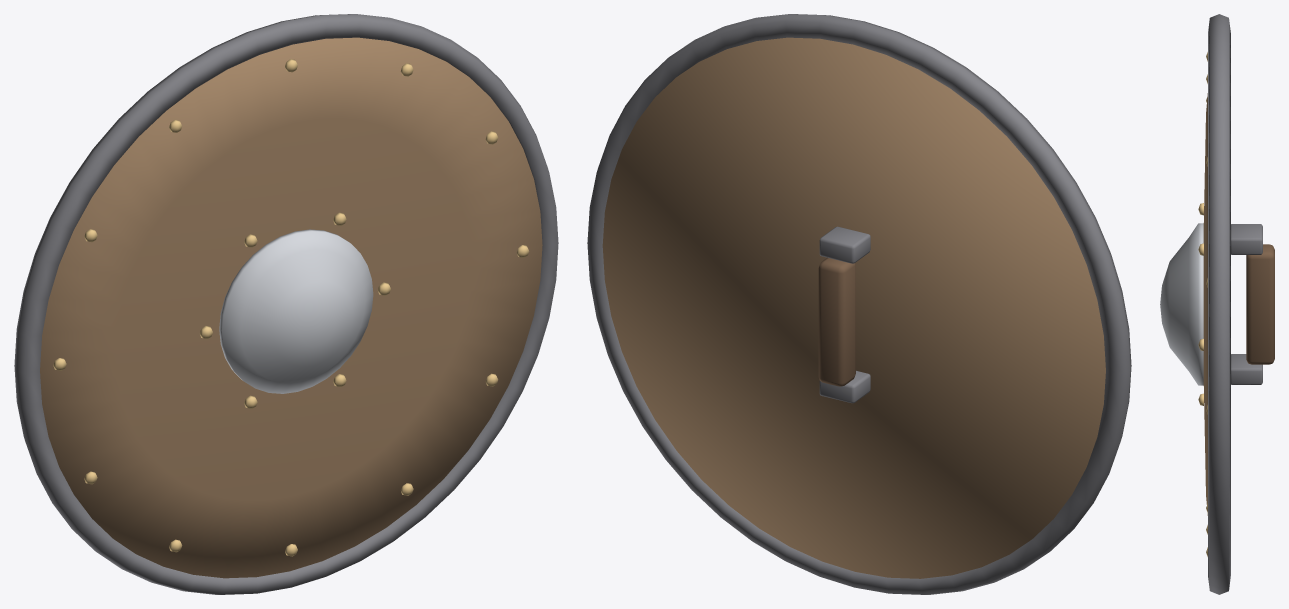
The model's file is shield.glb.
The picture shows the model from 3 angles, left to right: view 1: azimuth 30°, elevation 25°; view 2: azimuth 150°, elevation 25°; view 3: azimuth 270°, elevation 25°; orthographic projection. The views are drawn at different scales.
Visible parts, largest first — view 1: shield_board, shield_rim, shield_boss; view 2: shield_board, shield_rim, shield_handle, shield_bracket0.075, shield_bracket-0.075; view 3: shield_rim, shield_boss, shield_handle, shield_board, shield_bracket0.075, shield_bracket-0.075.
Boxes of the visible parts, <box> form: shield_board: <box>40,37,542,578</box>; shield_rim: <box>14,14,558,594</box>; shield_boss: <box>219,229,373,393</box>; shield_board: <box>602,37,1105,578</box>; shield_rim: <box>587,14,1131,594</box>; shield_handle: <box>818,257,855,386</box>; shield_bracket0.075: <box>819,226,870,263</box>; shield_bracket-0.075: <box>819,370,870,403</box>; shield_rim: <box>1208,14,1230,594</box>; shield_boss: <box>1160,223,1203,385</box>; shield_handle: <box>1246,244,1274,364</box>; shield_board: <box>1203,93,1207,515</box>; shield_bracket0.075: <box>1231,224,1262,254</box>; shield_bracket-0.075: <box>1231,354,1262,384</box>.
Size of the model in its own units: 0.608 by 0.608 by 0.12.
